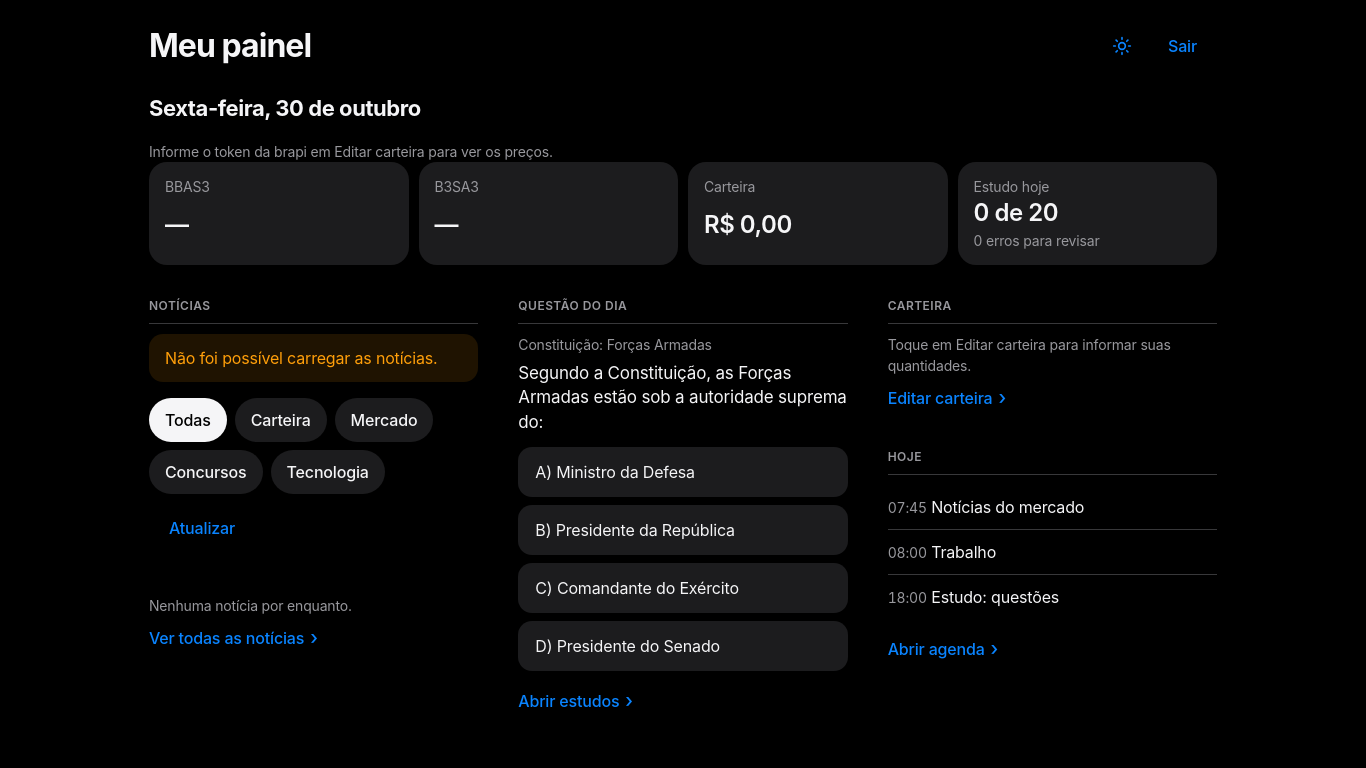
Test: Sair volta para a entrada
The image size is (1366, 768).
Click the button "Sair" at (1182, 46), box [1148, 24, 1217, 68]
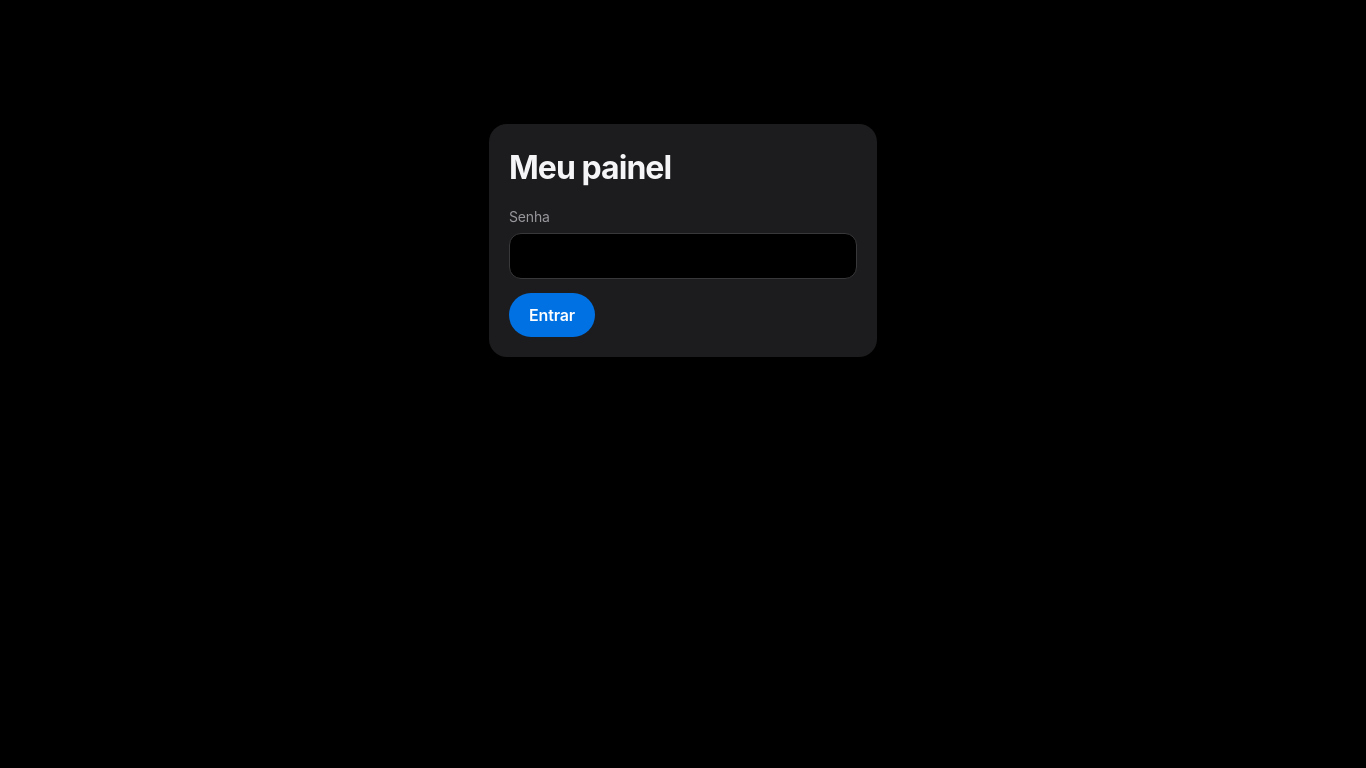
Now the password field labelled "Senha" is shown, box [509, 232, 857, 278]
